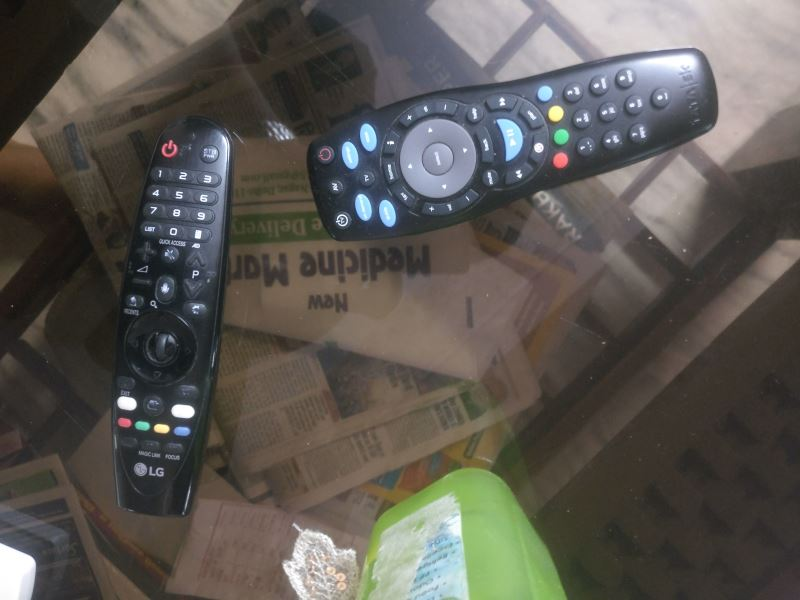tv remote: (304, 51, 723, 241), (116, 116, 233, 522)
